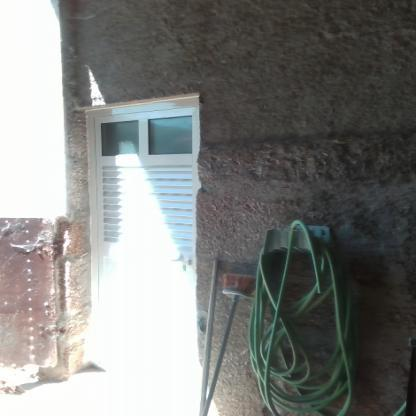door: (94, 113, 199, 382)
lever: (158, 252, 183, 264)
